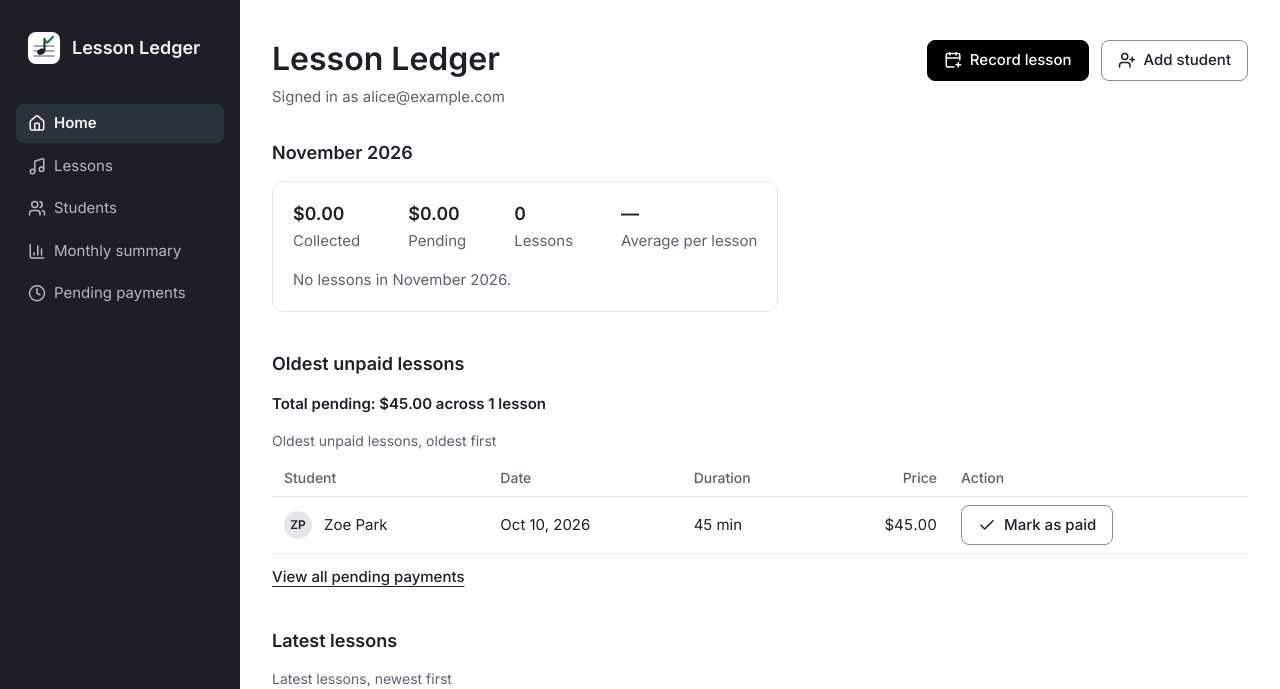
Test: F07 AC-3 mark as paid on Home › AC-3b when the table empties, focus goes to the section heading
The width and height of the screenshot is (1280, 689).
expect the text "Signed in as alice@example.com" is shown: met, box [272, 86, 505, 109]
expect the table "Oldest unpaid lessons, oldest first" is shown: met, box [272, 431, 1248, 554]
Click the button "Mark as paid".
click(1037, 525)  # box [961, 505, 1113, 545]
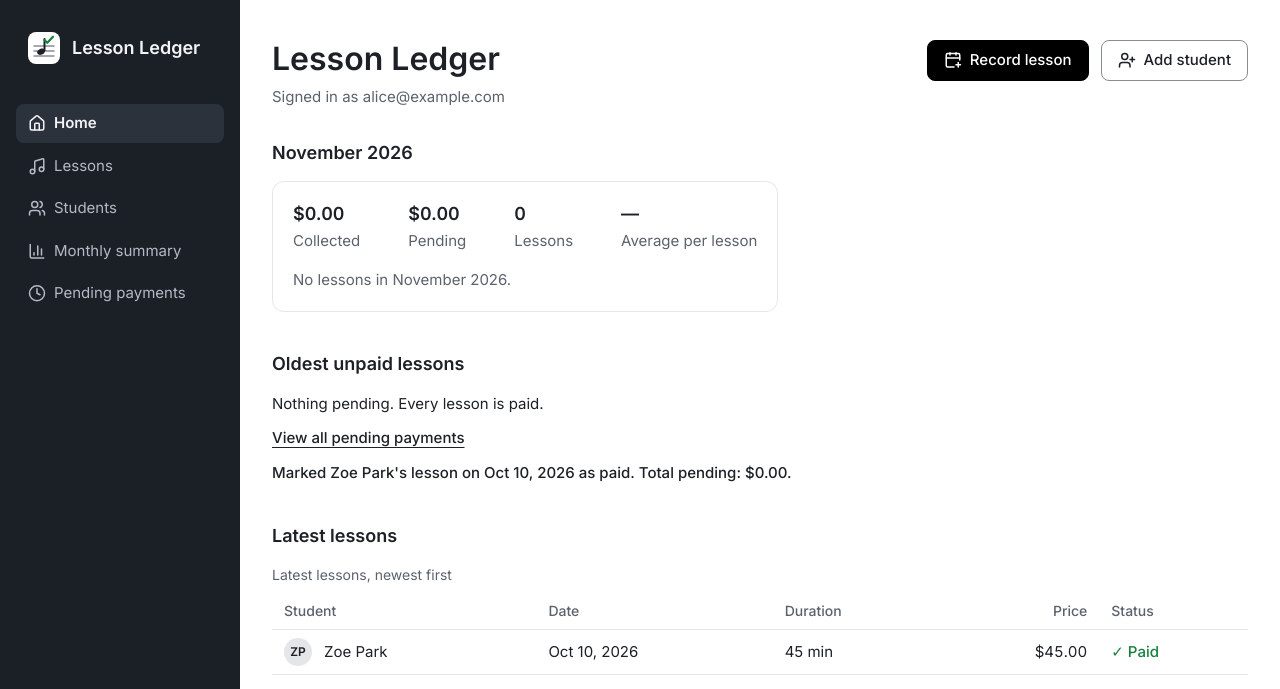
expect the text "Nothing pending. Every lesson is paid." is shown: met, box [272, 394, 544, 413]
expect the text "Oldest unpaid lessons, oldest first" is gone: met
